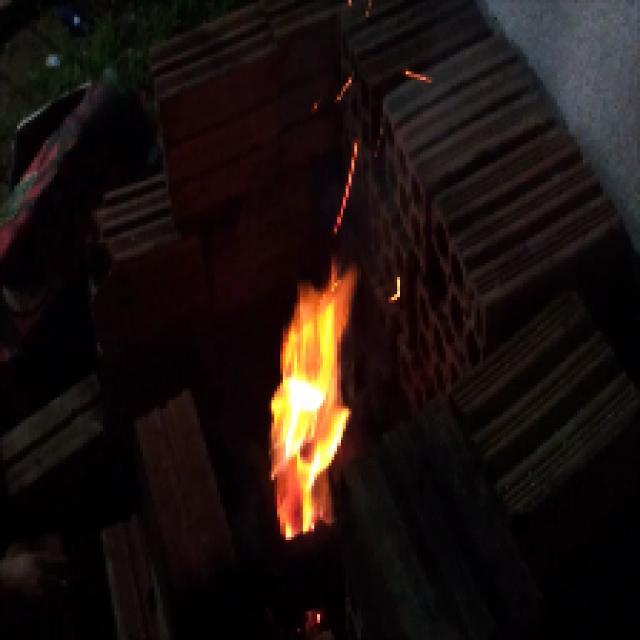Fire: (264, 274, 353, 544)
